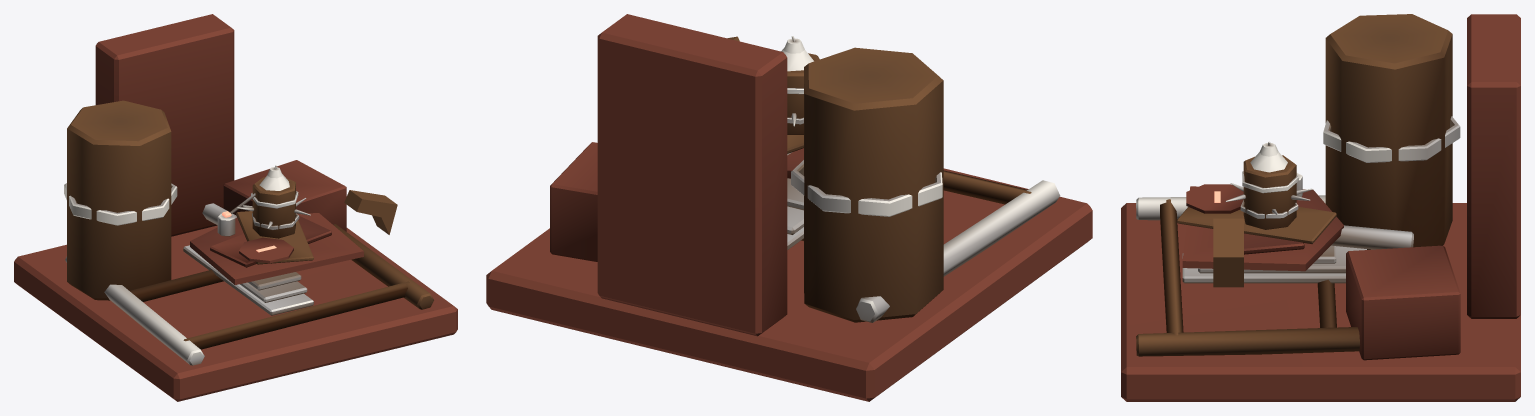
The model's file is R4X_ExplosiveTrapDeployer_LOD1.fbx.
The picture shows the model from 3 angles, left to right: view 1: azimuth 30°, elevation 25°; view 2: azimuth 150°, elevation 25°; view 3: azimuth 270°, elevation 25°; orthographic projection. The views are drawn at different scales.
Parts seen in each view (by area): view 1: R4X_ExplosiveTrapDeployer_LOD1; view 2: R4X_ExplosiveTrapDeployer_LOD1; view 3: R4X_ExplosiveTrapDeployer_LOD1.
Part boxes in pixels (x1,y1,x2,y2): R4X_ExplosiveTrapDeployer_LOD1: (14,14,457,401); R4X_ExplosiveTrapDeployer_LOD1: (486,14,1092,401); R4X_ExplosiveTrapDeployer_LOD1: (1121,14,1520,401).
Bounding box in the file's own units: 0.52 × 0.39 × 0.52.
